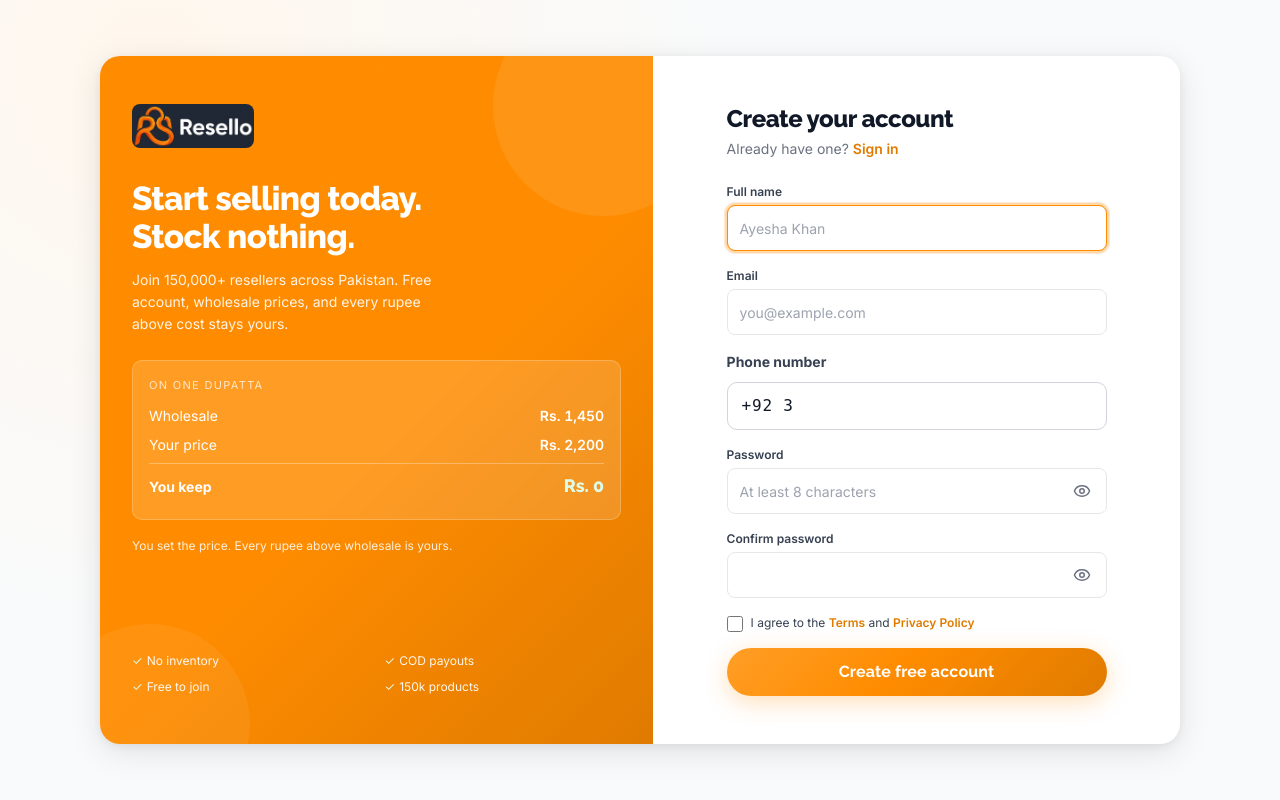
Test: AuthPage Signup validation › rejects signup when phone number is not a valid Pakistani mobile number
This screenshot has width=1280, height=800.
Type "Fatima Ali" into the field labelled "Full name".
click(917, 228); type("Fatima Ali")  # box [728,206,1106,250]
Type "fatima@example.com" into the field labelled "Email".
click(917, 312); type("fatima@example.com")  # box [728,290,1106,334]
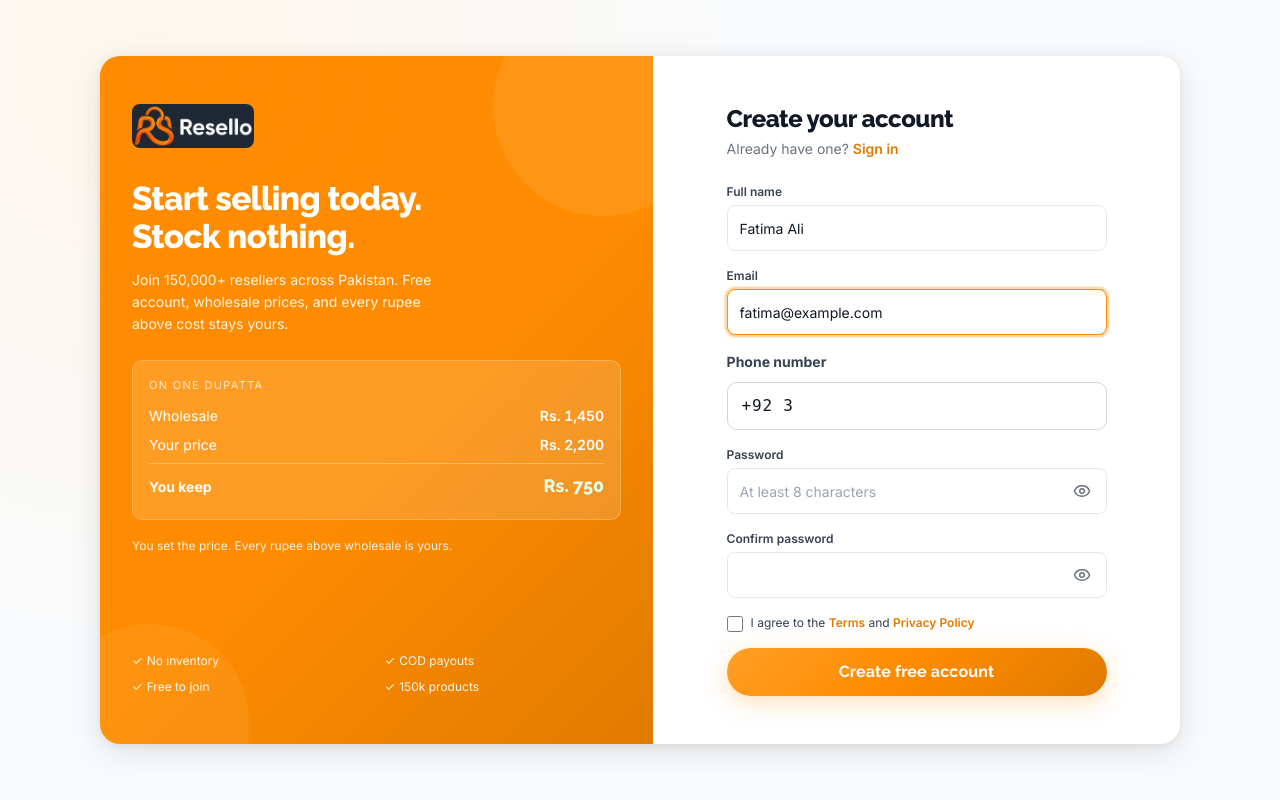
Type "12345" into the field labelled "Phone number".
click(917, 406); type("12345")  # box [727,382,1107,430]
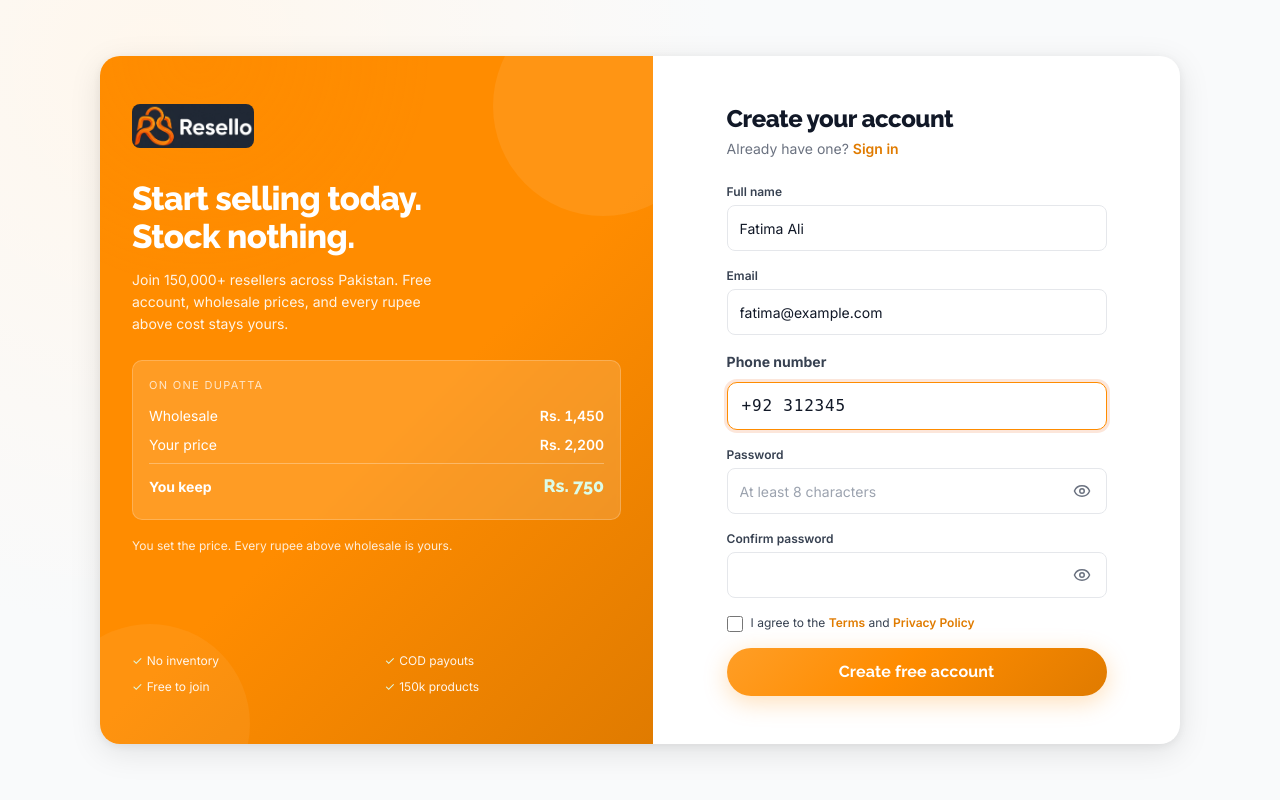
Type "SecurePassword123!" into the password field labelled "Password".
click(895, 491); type("SecurePassword123!")  # box [728,469,1062,513]
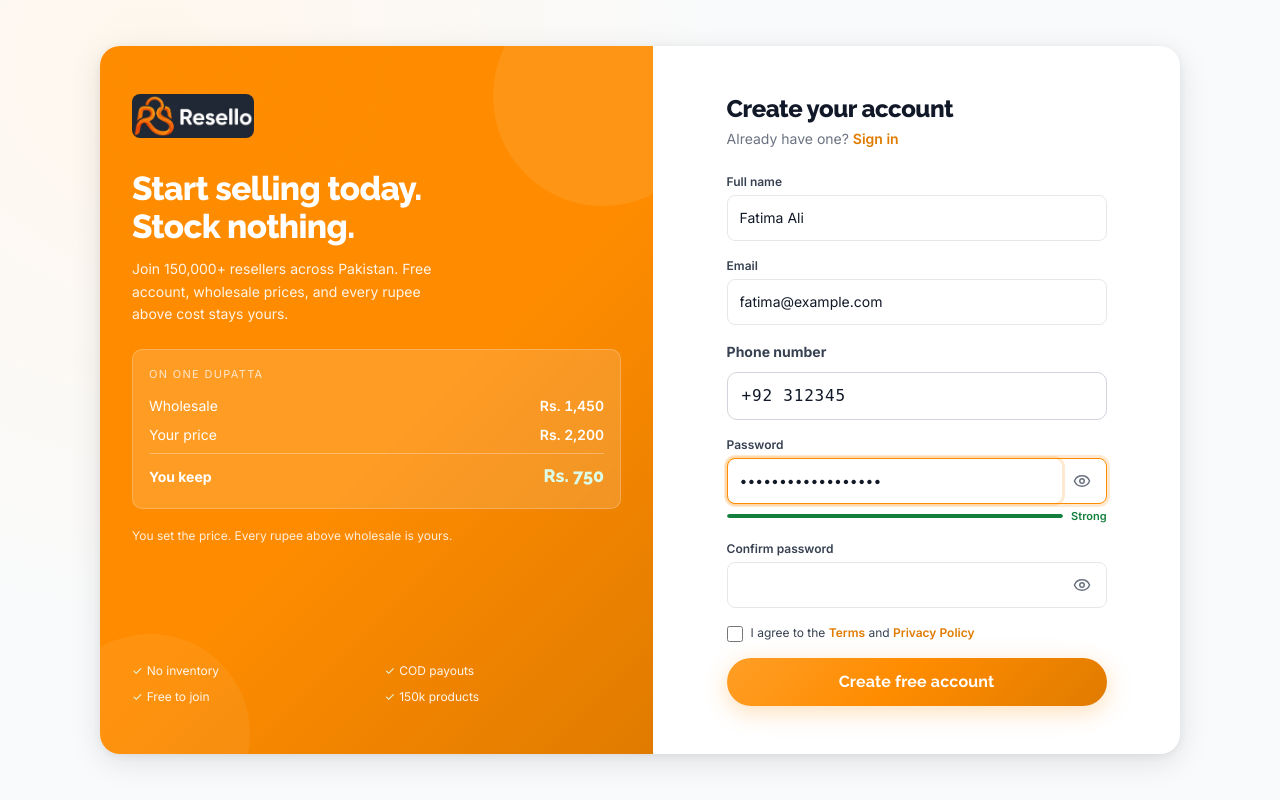
Type "SecurePassword123!" into the password field labelled "Confirm password".
click(895, 585); type("SecurePassword123!")  # box [728,563,1062,607]
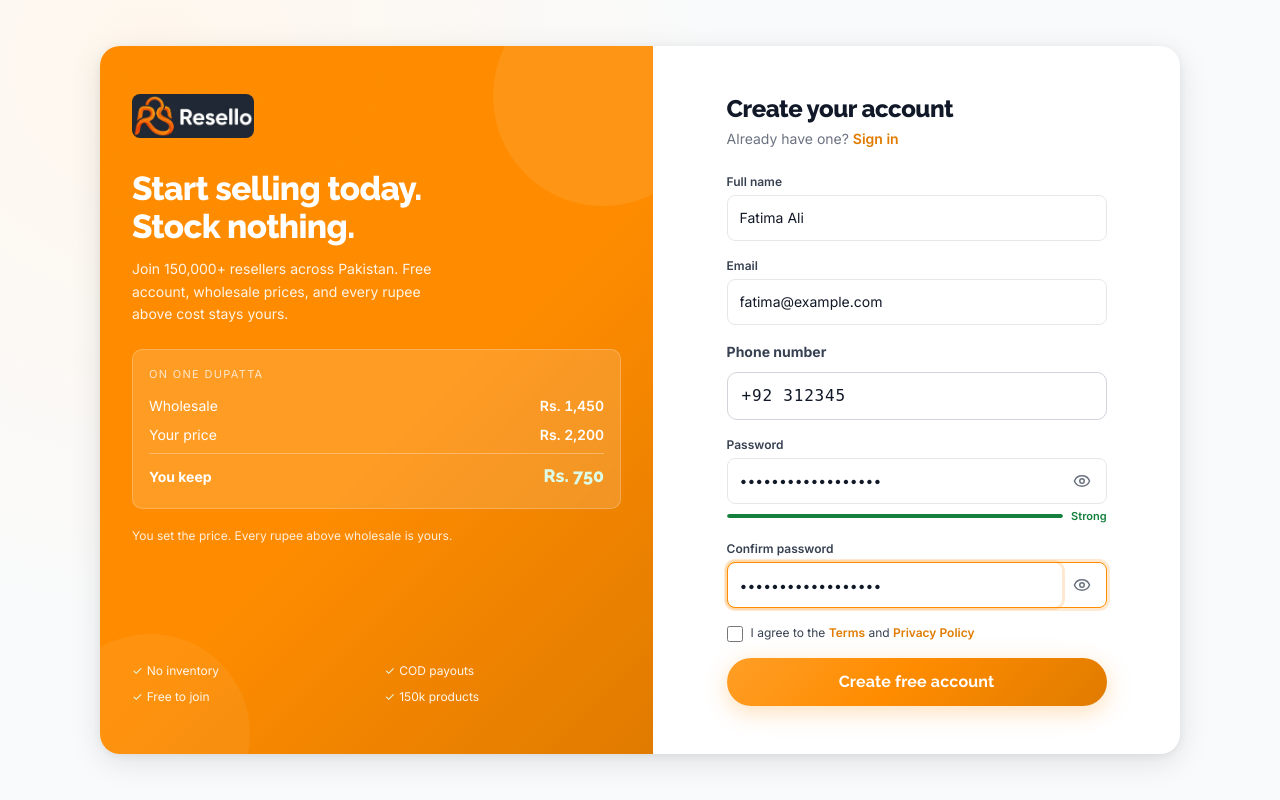
Click the checkbox labelled "I agree to the Terms and Privacy Policy".
click(735, 634)  # box [727,626,743,642]
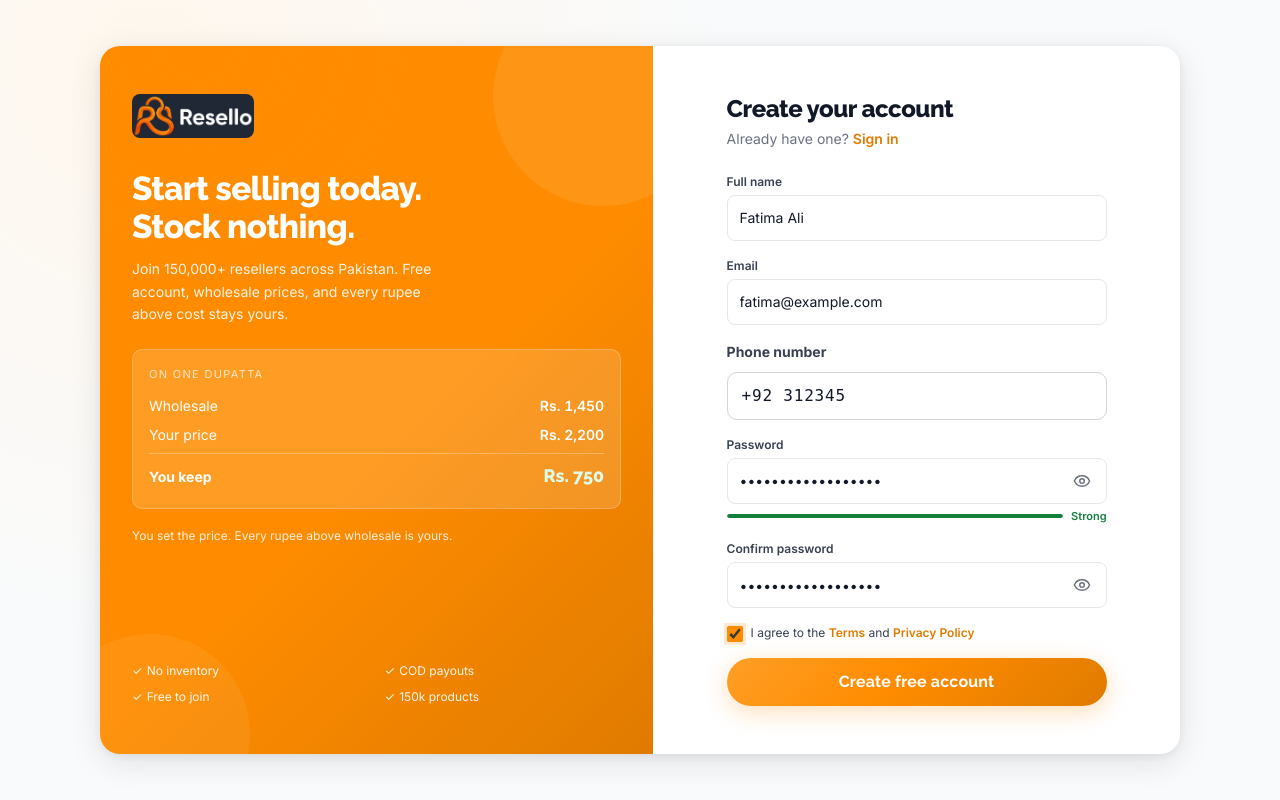
Click the button "Create free account".
click(917, 682)  # box [727,658,1107,706]
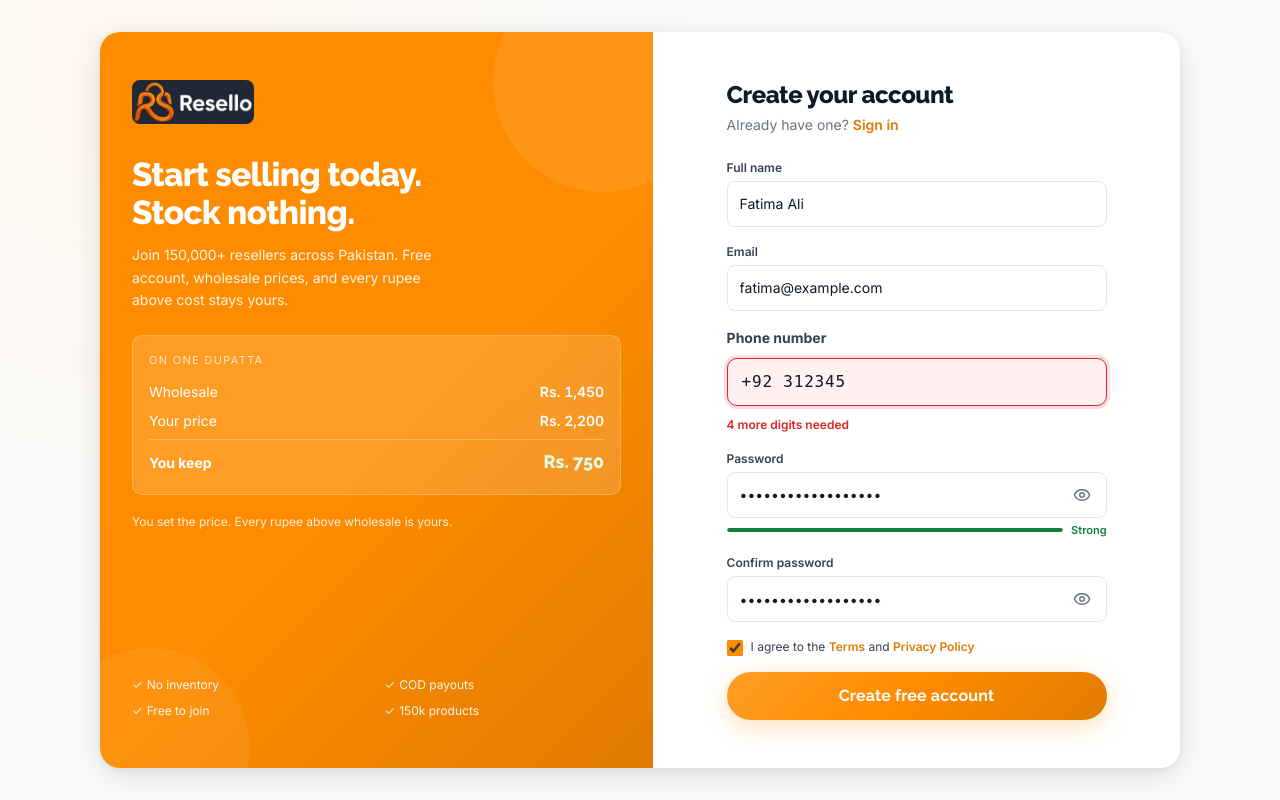
Expected: the text "4 more digits needed" is shown, [727,417,849,432]
